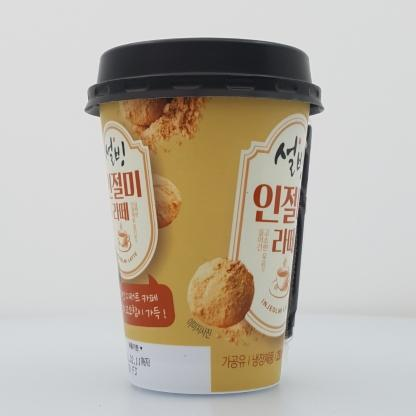--------------250ML: (84, 37, 324, 395)
